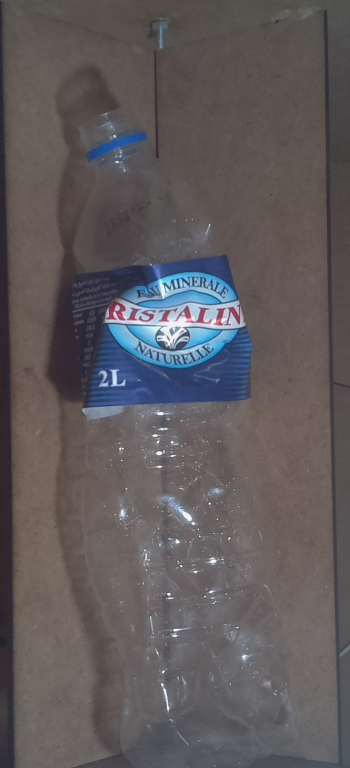Bouteille_2L: (58, 97, 308, 768)
